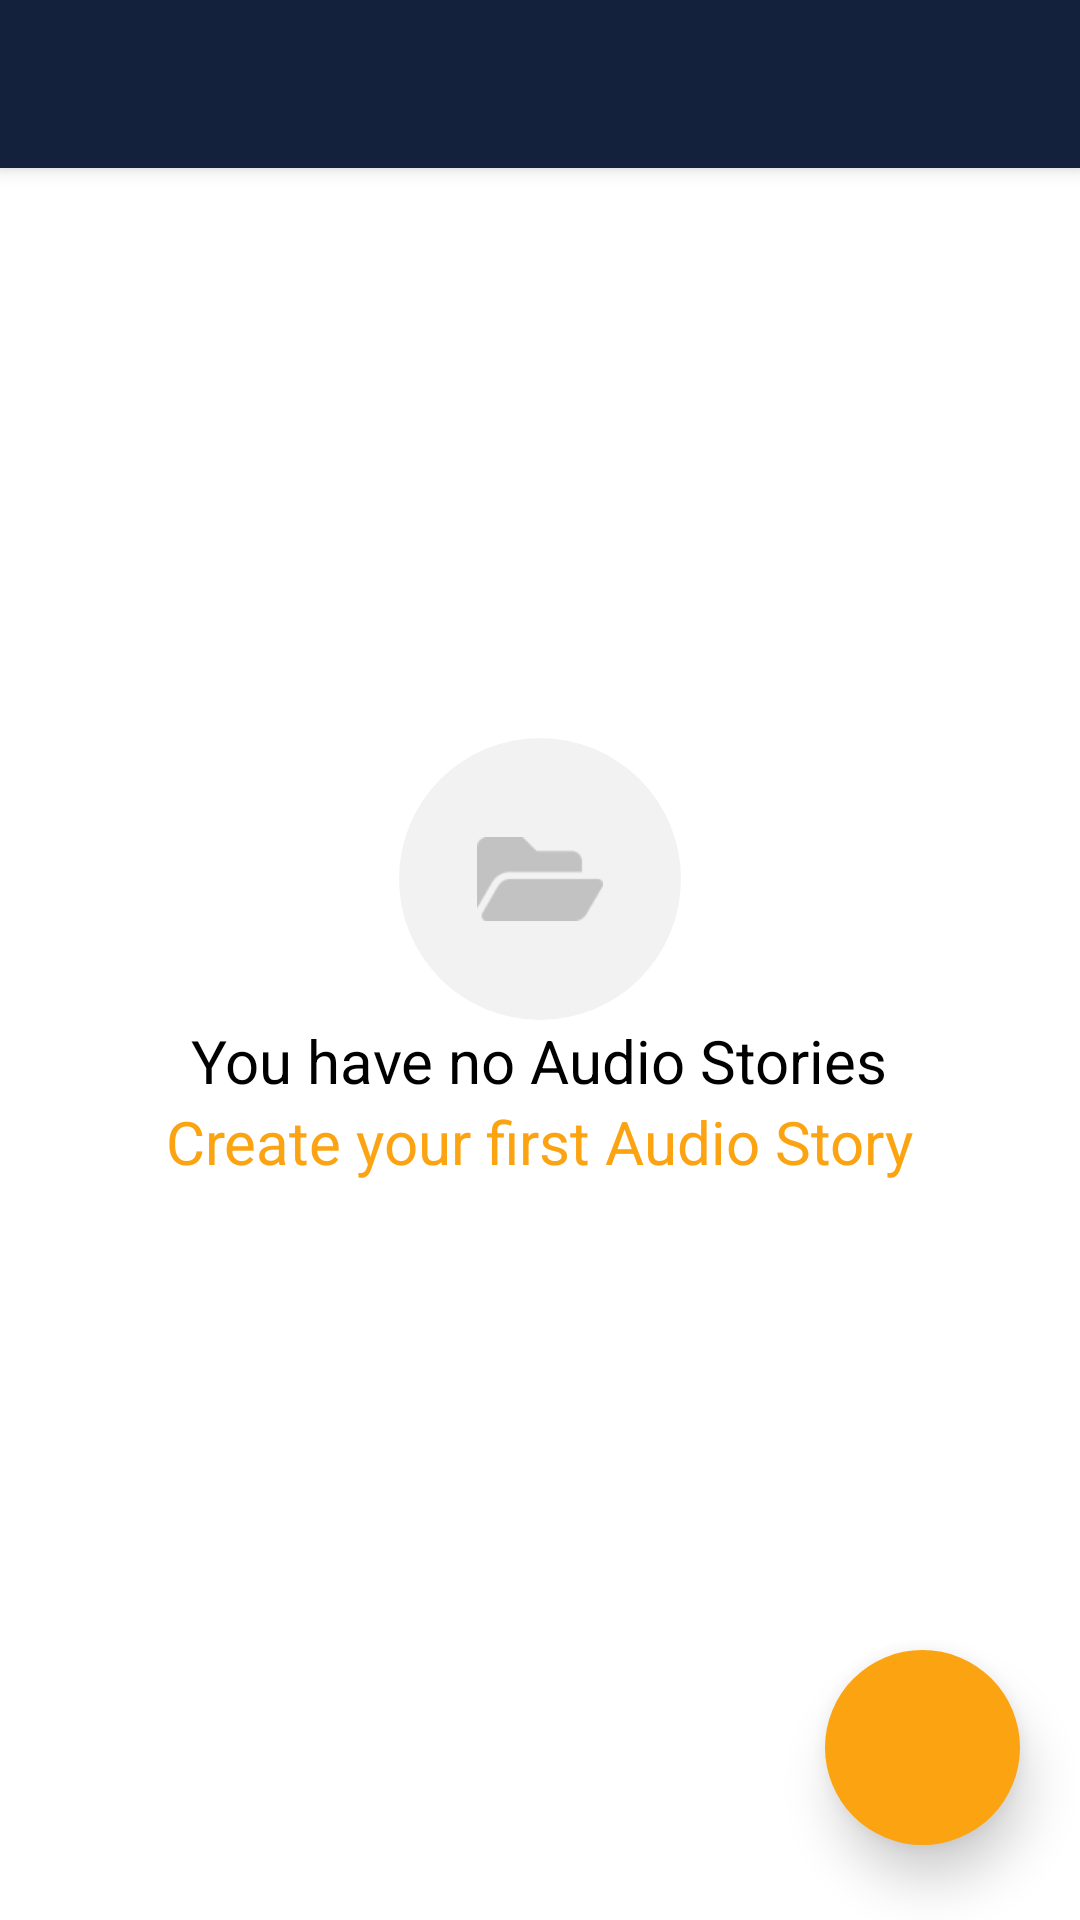

Where to tap for icons on this 1080×1920 app screen, as (x,y):
empty folder: (540,879)
